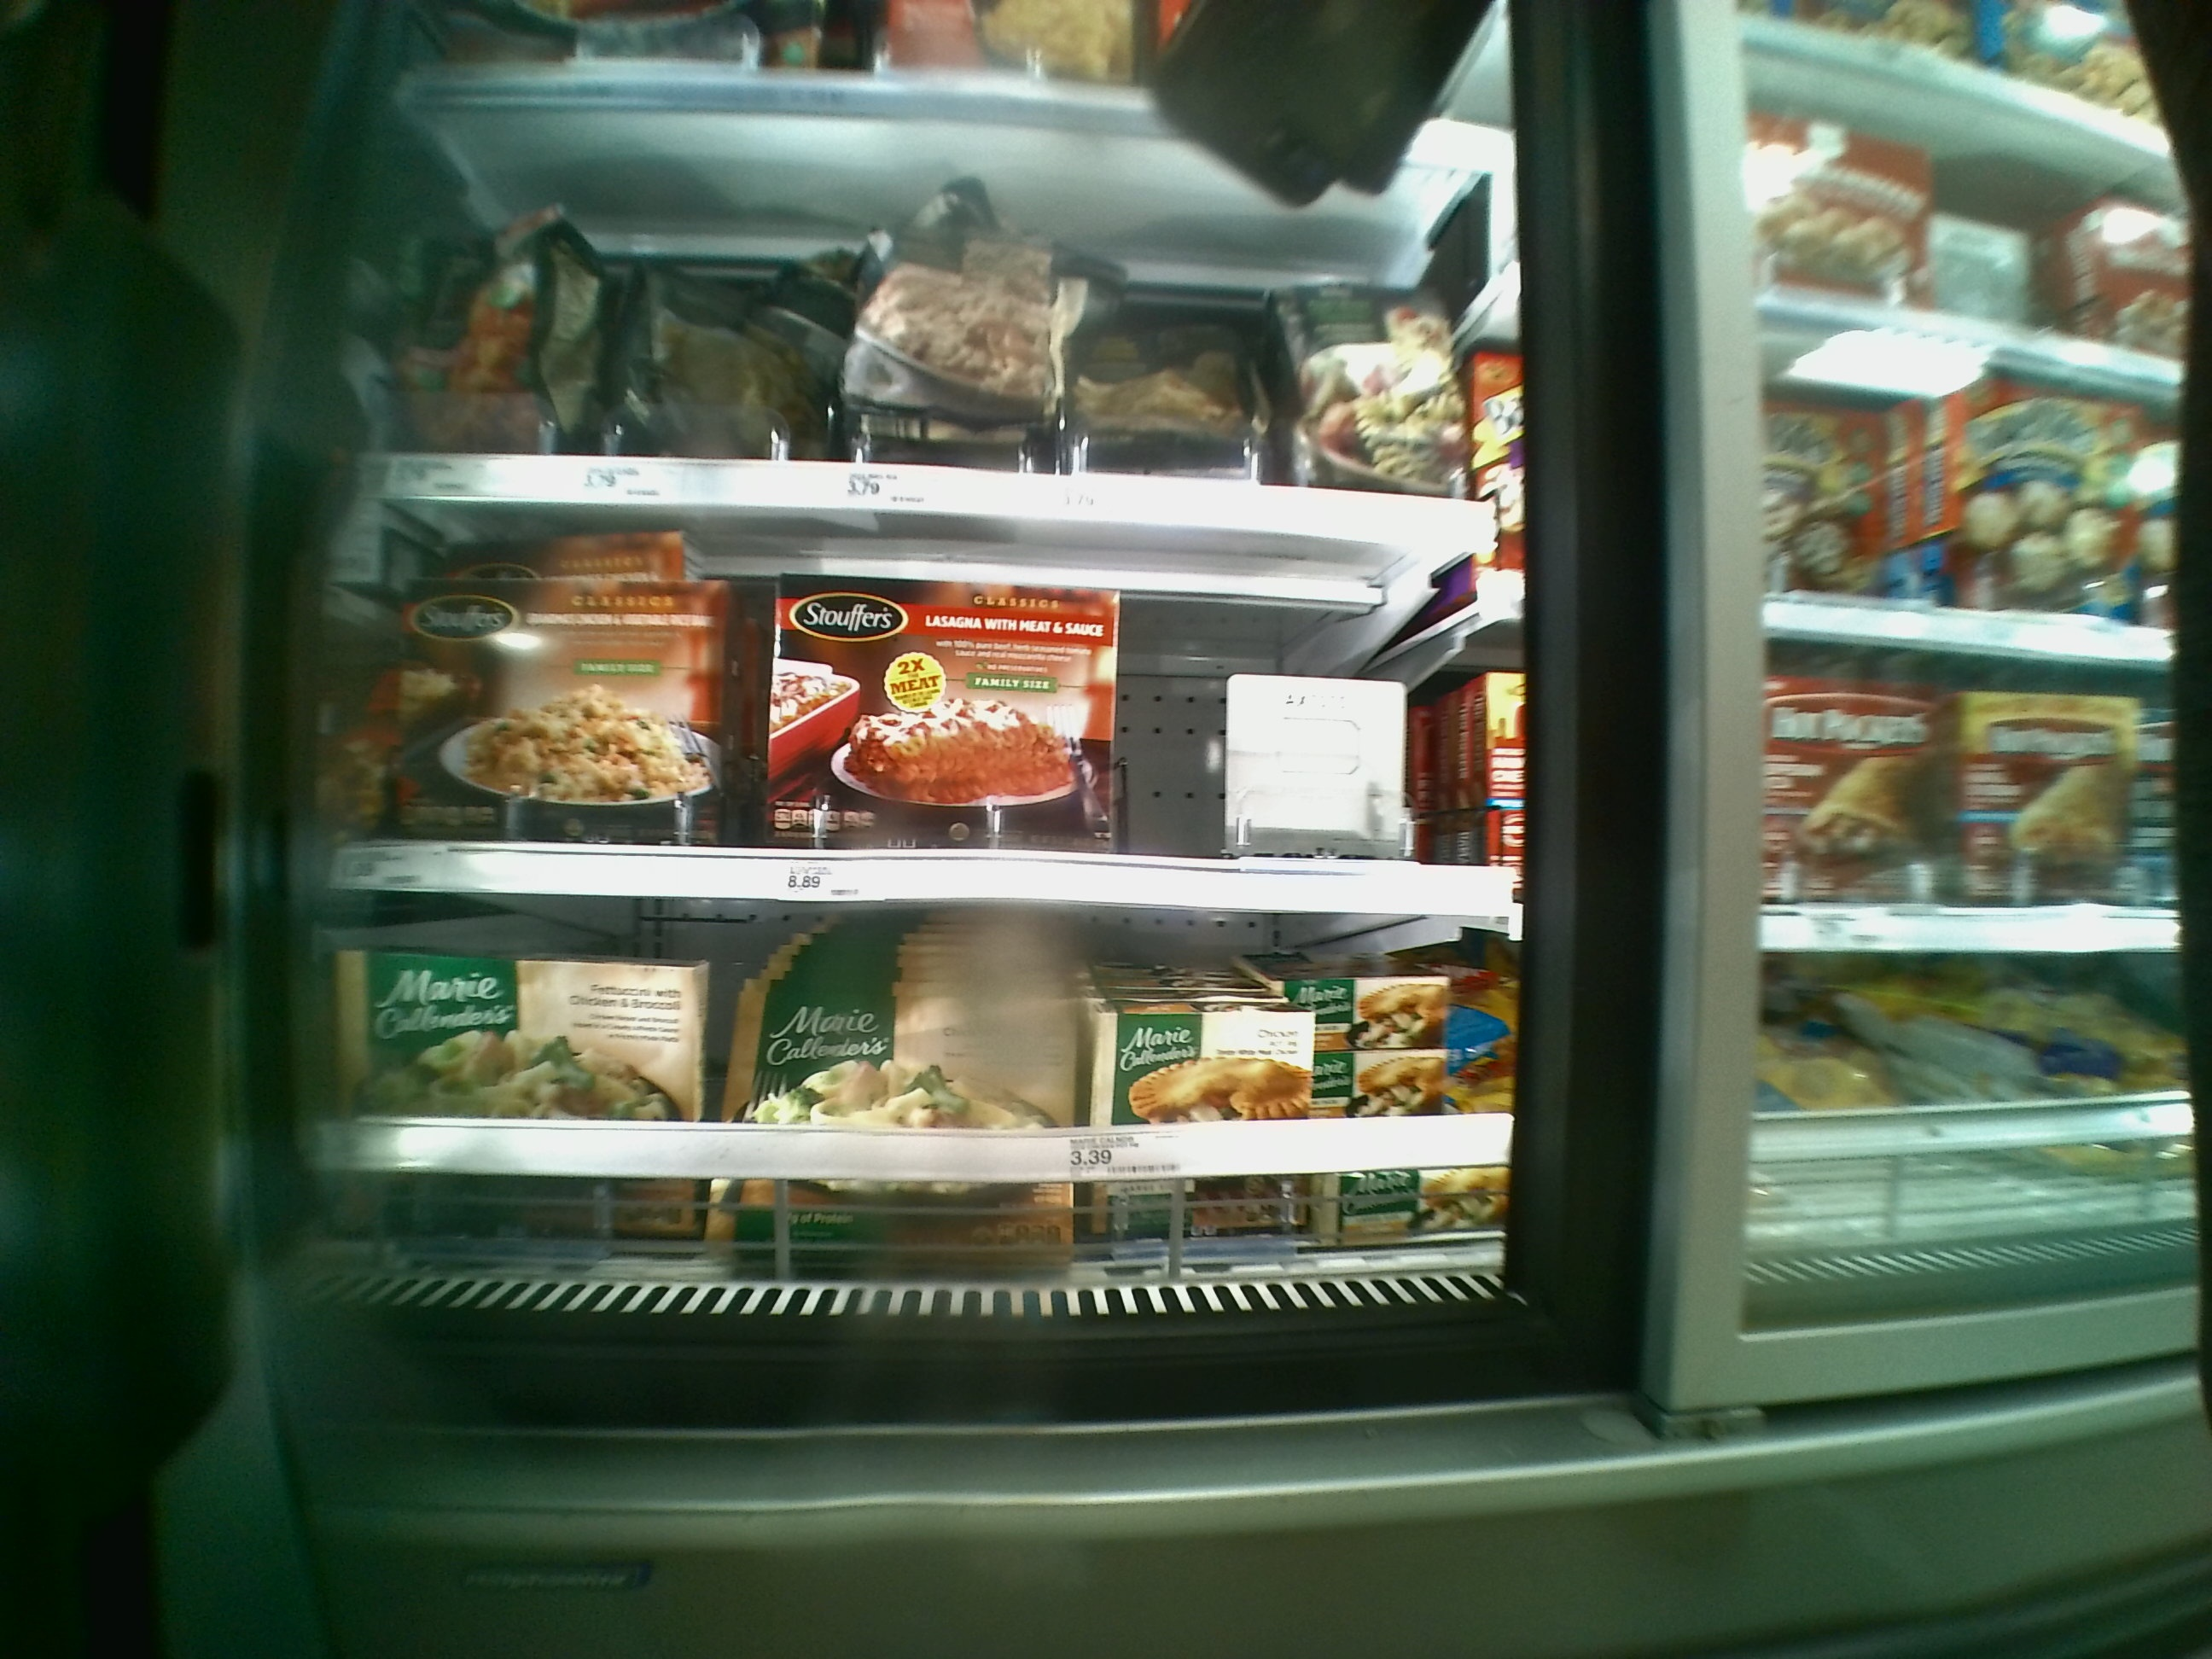shelf: (371, 117, 1486, 551), (331, 908, 1503, 1309), (348, 528, 1480, 906)
